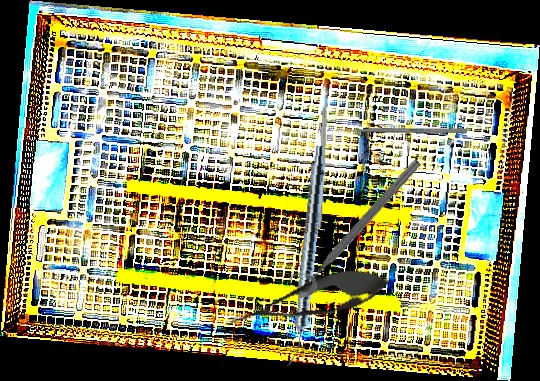Chopper: (316, 82, 337, 229)
Fixation Ring: (283, 148, 426, 302)
Handpiece: (285, 143, 329, 369)
Micro Scissor: (223, 257, 397, 342)
Pusher: (333, 128, 467, 133)
